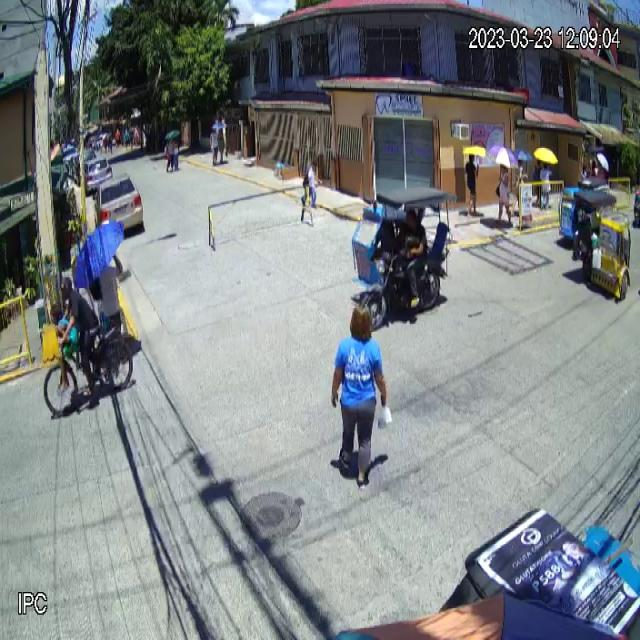Car: (93, 173, 144, 235)
Tricycle: (350, 184, 454, 331)
